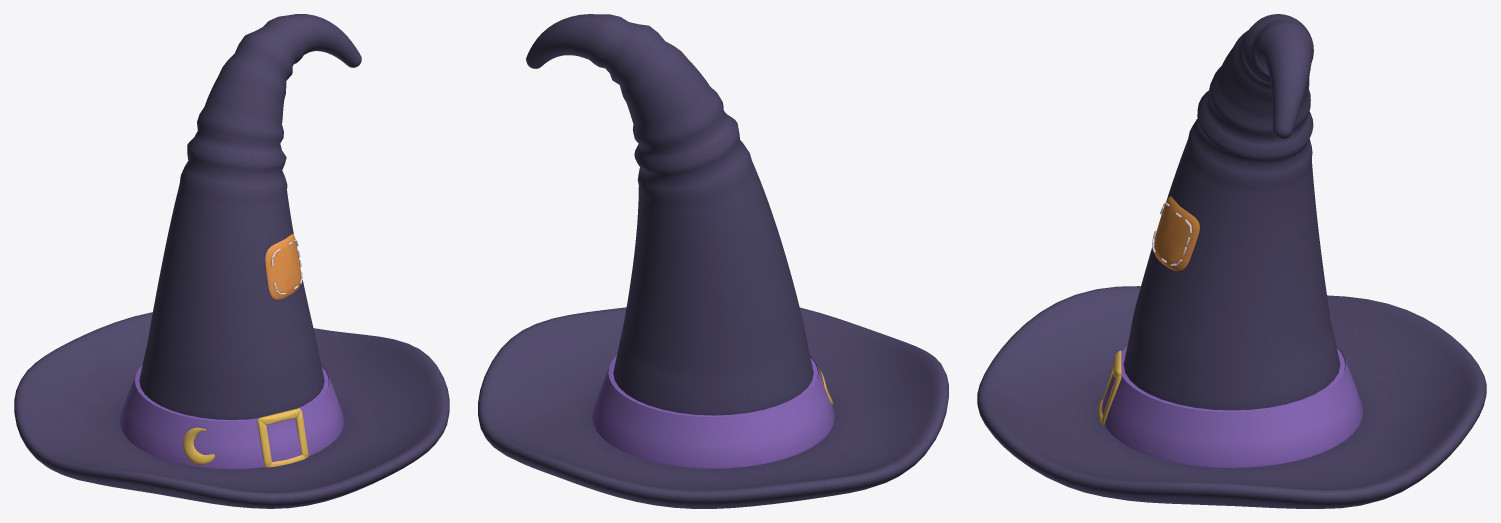
The model's file is sombrero_bruja.glb.
3 renders of one model, left to right at view 1: azimuth 30°, elevation 25°; view 2: azimuth 150°, elevation 25°; view 3: azimuth 270°, elevation 25°, orthographic. The views are drawn at different scales.
Parts seen in each view (by area): view 1: witch-hat_body; view 2: witch-hat_body; view 3: witch-hat_body.
Part boxes in pixels (x1,y1,x2,y2): witch-hat_body: [14, 14, 449, 508]; witch-hat_body: [478, 14, 948, 508]; witch-hat_body: [977, 14, 1486, 508].
Size of the model in its own units: 0.5021 by 0.4872 by 0.5016.
1 material, 1 textured.
